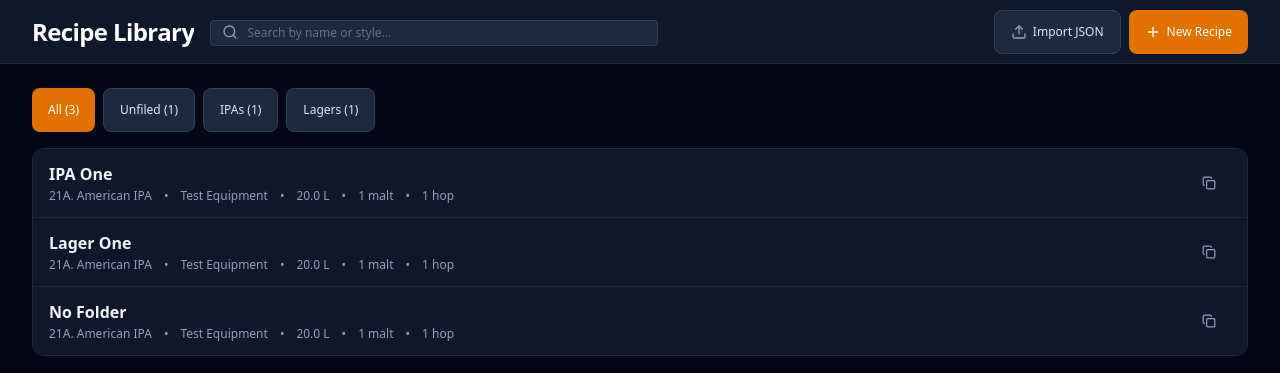
M38_P1 AC-11/AC-12: folder tab strip › clicking a folder tab narrows the visible rows to that folder only
The image size is (1280, 373).
Expected: the button with test id "recipe-row-r-1" is shown, left=33, top=149, right=1247, bottom=218
Click the tab with test id "folder-tab-IPAs" at (241, 110), box left=203, top=88, right=278, bottom=132
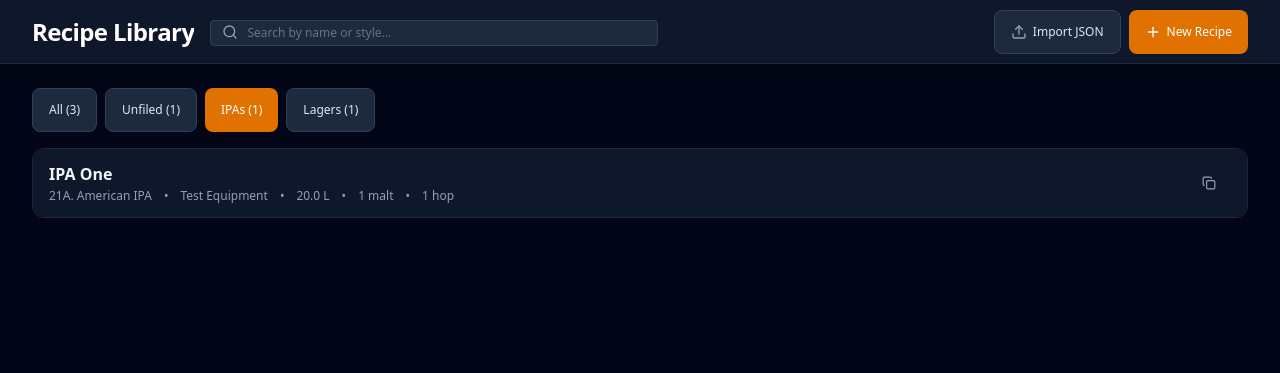
Expected: the button with test id "recipe-row-r-1" is shown, left=33, top=149, right=1247, bottom=217
Now the button with test id "recipe-row-r-2" is gone
Now the button with test id "recipe-row-r-3" is gone
